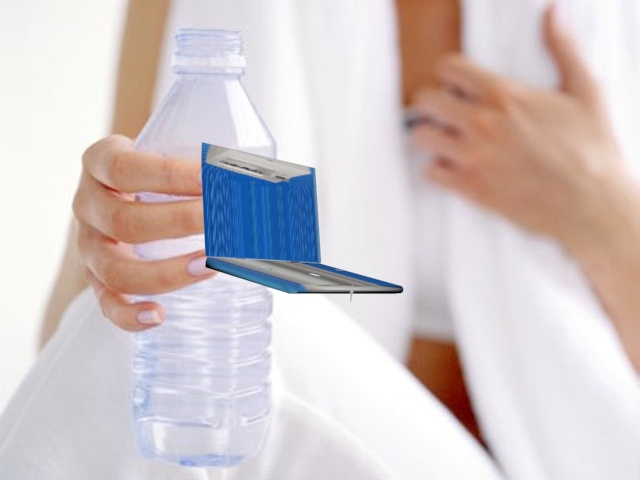laptop_computer: (192, 128, 416, 305)
